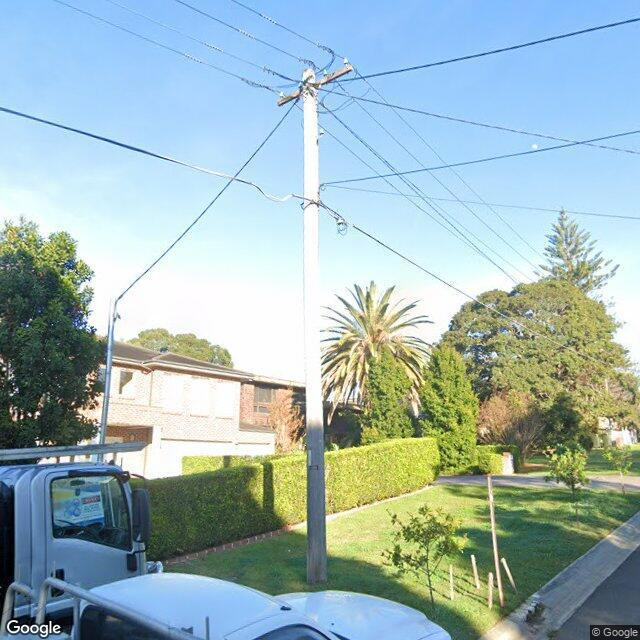crossarm: (276, 65, 355, 108)
steel-pole: (98, 294, 115, 441)
timber-pole: (298, 67, 327, 592)
